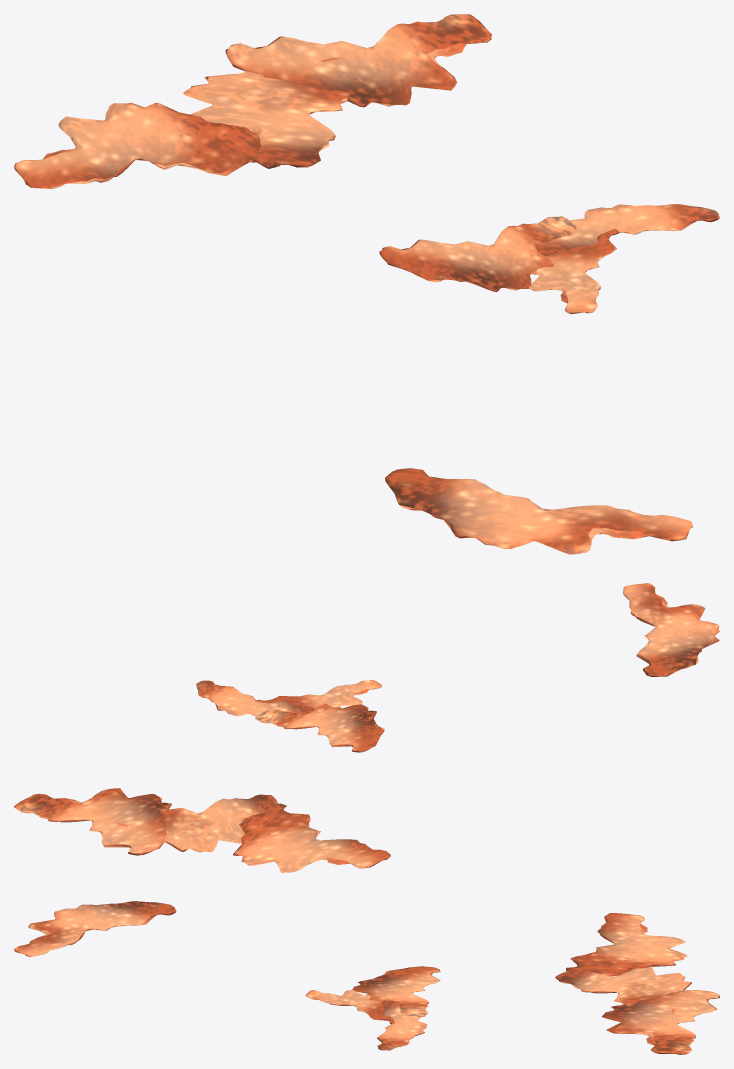
File: LV3Lava.fbx
3 renders of one model, top to bottom at view 1: azimuth 30°, elevation 25°; view 2: azimuth 150°, elevation 25°; view 3: azimuth 270°, elevation 25°, orthographic. The views are drawn at different scales.
Visible parts, largest first — view 1: RockWalkway_26; view 2: RockWalkway_26; view 3: RockWalkway_26.
Part boxes in pixels (box(x1,y1,x2,y2)): RockWalkway_26: box(14, 14, 719, 554); RockWalkway_26: box(14, 583, 719, 872); RockWalkway_26: box(14, 901, 719, 1054).
Bounding box in the file's own units: 126 × 1.12 × 243.
